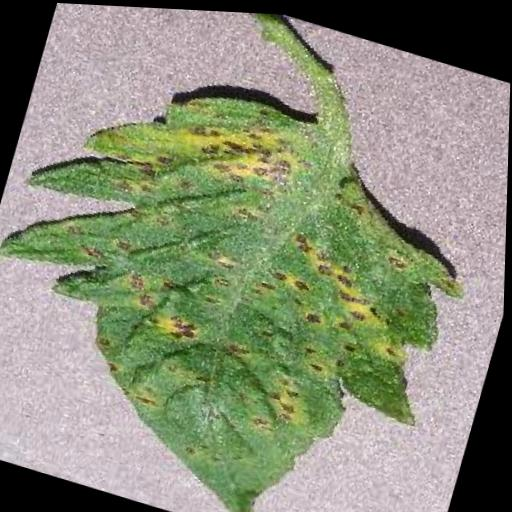Septoria: (0, 36, 499, 512)
